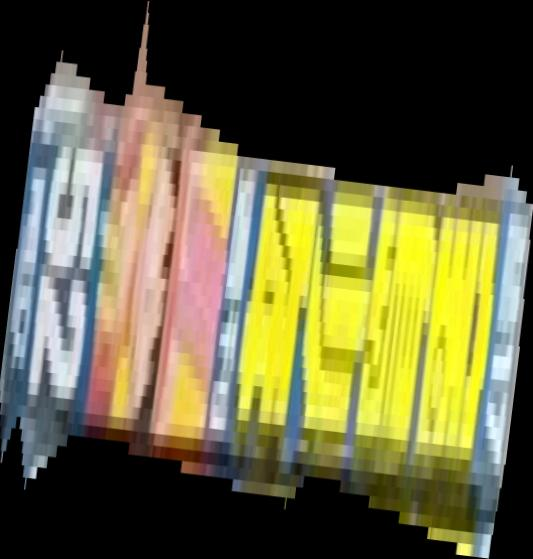flat: (1, 1, 533, 559)
